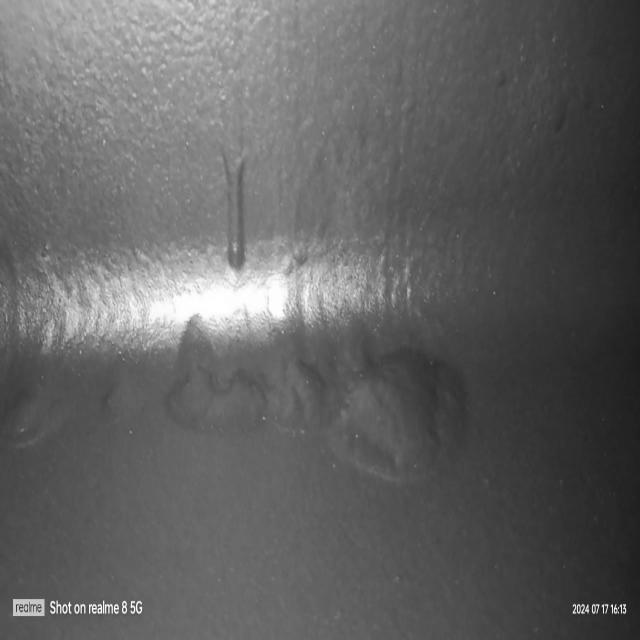paint drips: (213, 134, 256, 290)
